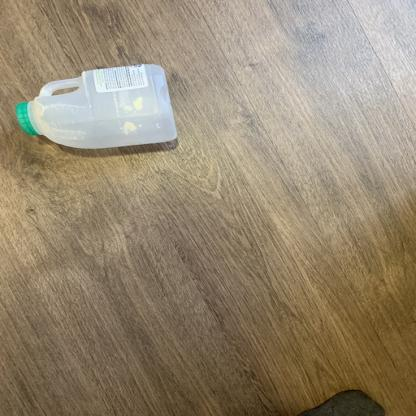trash: (13, 62, 181, 152)
